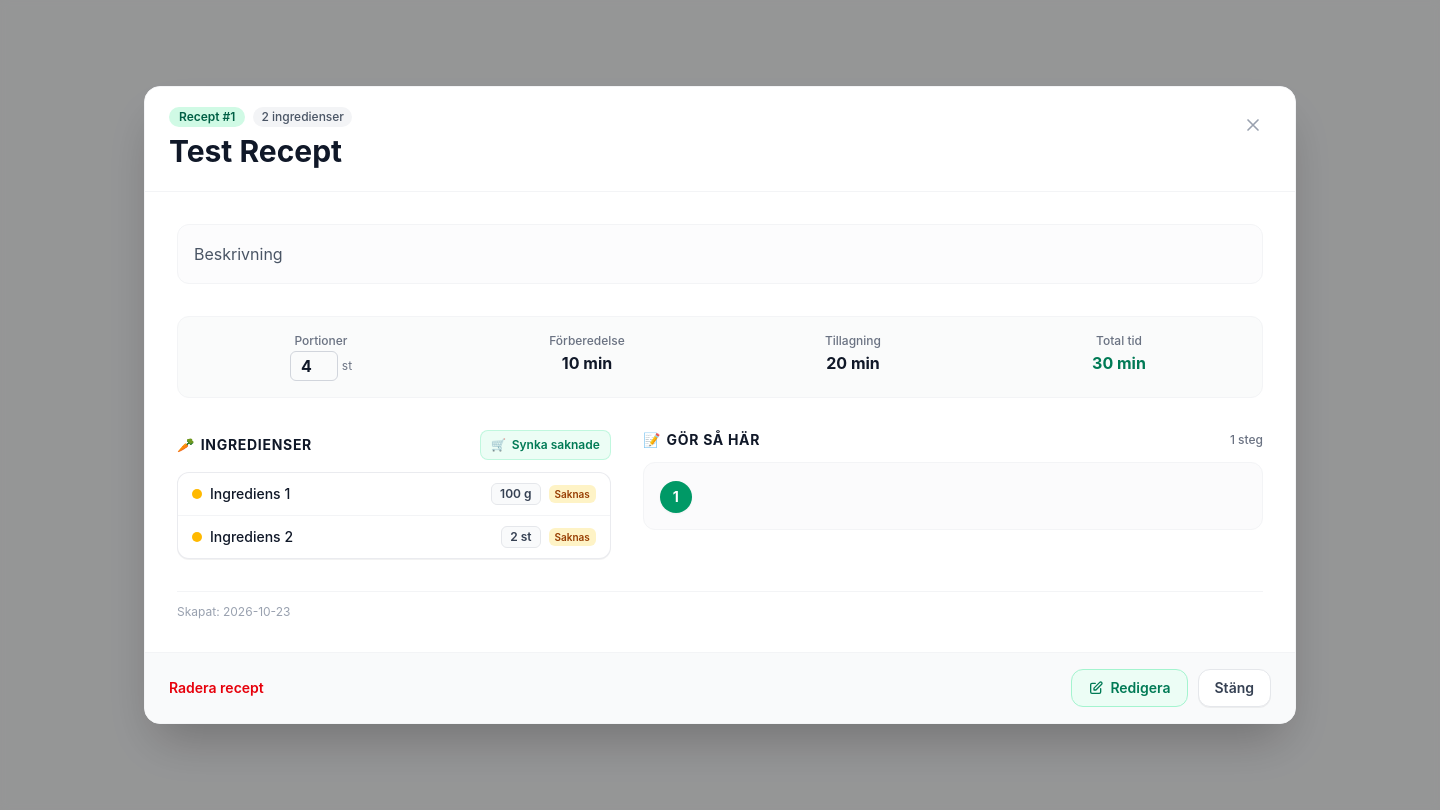
Test: RecipeDetailsModal.vue › verifies ingredient amounts scale proportionally
Replace the text in the number field with "2" at [314, 366], box [290,351,338,381]
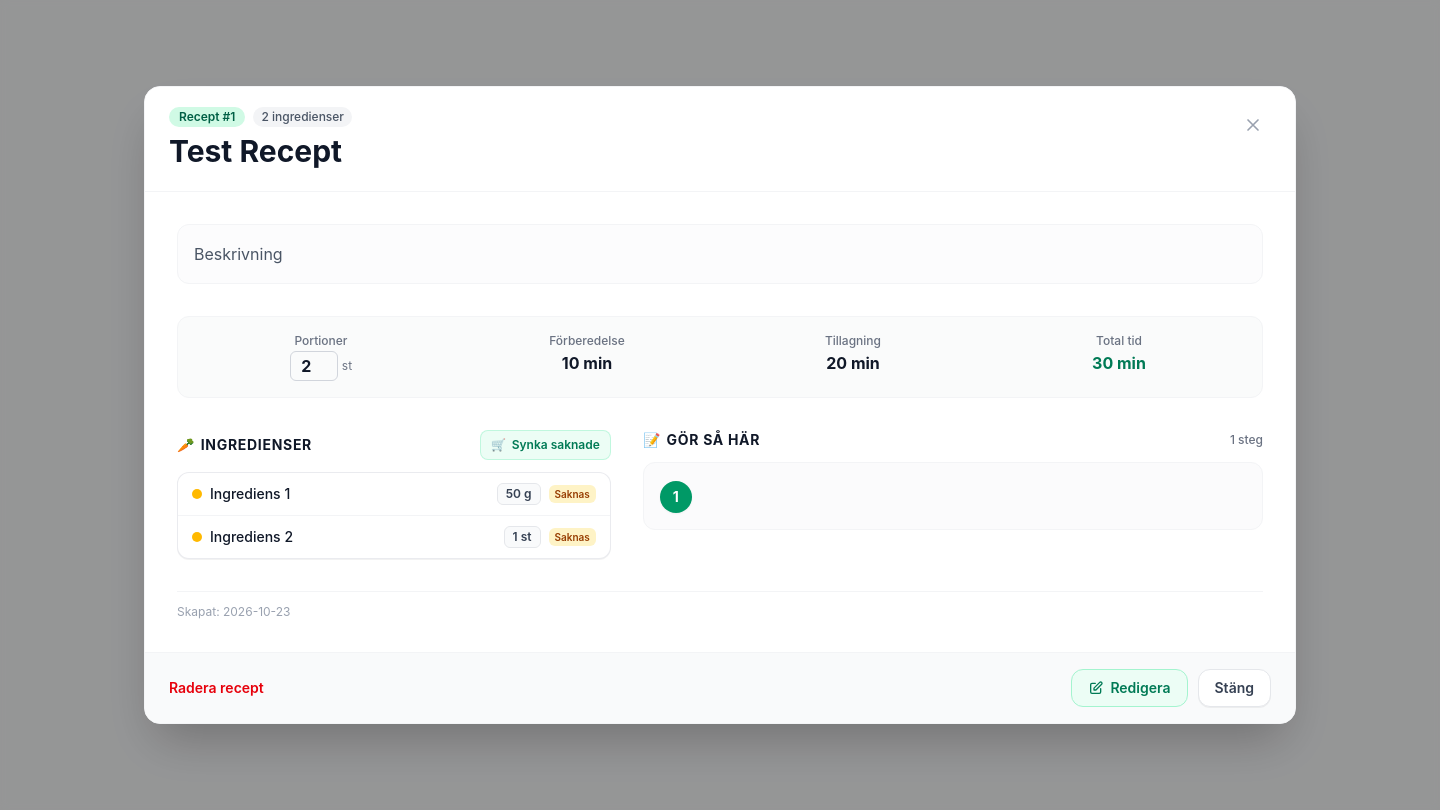
Check: the text with class "font-semibold" reads "50 g", box [506,486,532,501]
Check: the text with class "font-semibold" reads "1 st", box [513,529,532,544]
Replace the text in the number field with "8" at [314, 366], box [290,351,338,381]
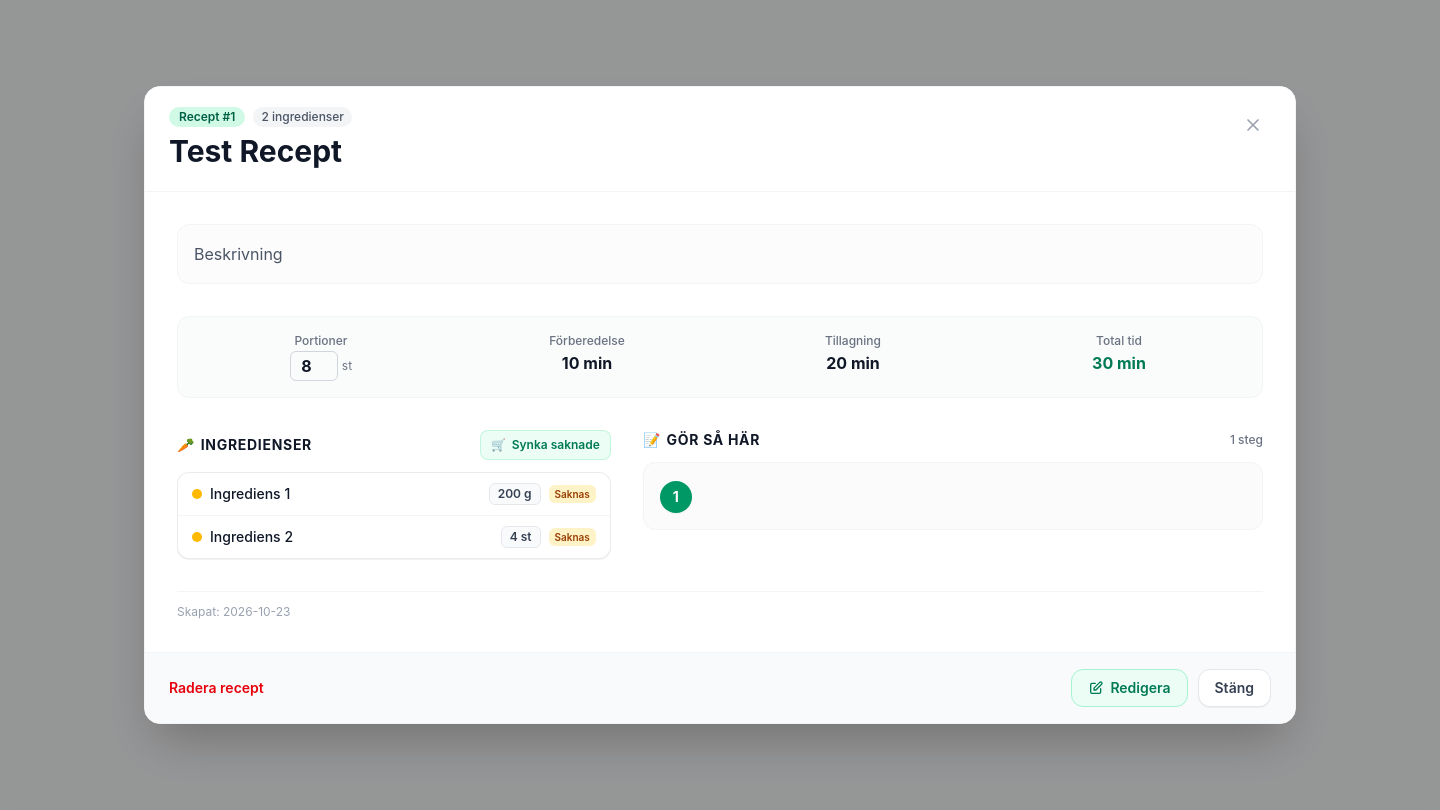
Check: the text with class "font-semibold" reads "200 g", box [498,486,532,501]
Check: the text with class "font-semibold" reads "4 st", box [510,529,532,544]
